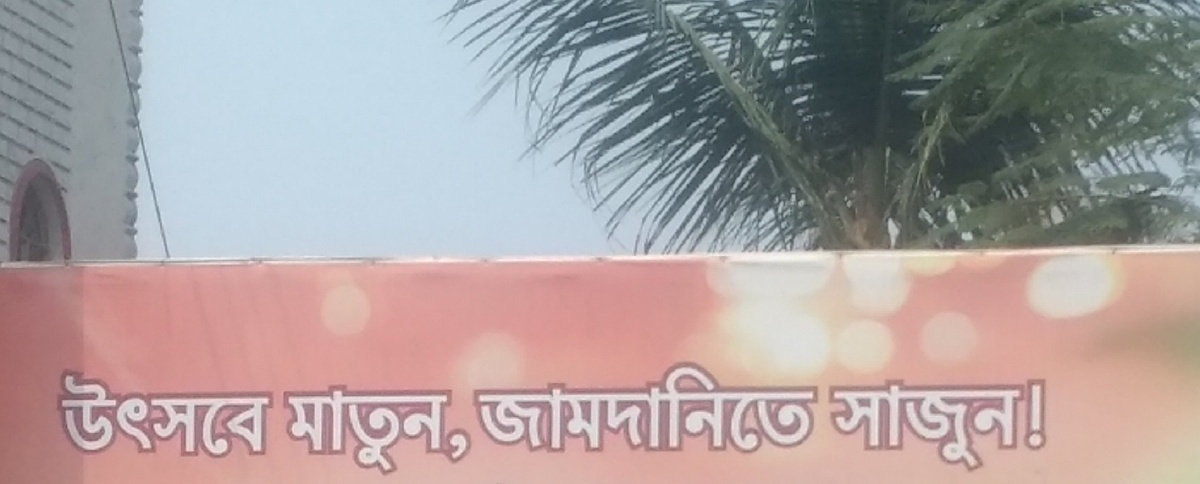text: (833, 377, 848, 481), (849, 377, 864, 481), (865, 377, 880, 481), (881, 377, 896, 481), (897, 377, 912, 481), (913, 377, 928, 481), (929, 377, 944, 481), (945, 377, 960, 481), (961, 377, 976, 481), (977, 377, 992, 481), (993, 377, 1008, 481), (1009, 377, 1024, 481), (1025, 377, 1040, 481), (1041, 377, 1056, 481), (289, 380, 304, 483), (305, 380, 320, 483), (321, 380, 336, 483), (337, 380, 352, 483), (353, 380, 368, 483), (369, 380, 384, 483), (385, 380, 400, 483), (401, 380, 416, 483), (417, 380, 432, 483), (433, 380, 448, 483), (449, 380, 464, 483), (465, 352, 480, 454), (481, 352, 496, 454), (497, 352, 512, 454), (513, 352, 528, 454), (529, 352, 544, 454), (545, 352, 560, 454), (561, 352, 576, 454), (577, 352, 592, 454), (593, 352, 608, 454), (609, 352, 624, 454), (625, 352, 640, 454), (641, 352, 656, 454), (657, 352, 672, 454), (673, 352, 688, 454), (689, 352, 704, 454), (705, 352, 720, 454), (721, 352, 736, 454), (737, 352, 752, 454), (753, 352, 768, 454), (769, 352, 784, 454), (785, 352, 800, 454), (801, 352, 816, 454), (65, 368, 80, 462), (81, 368, 96, 462), (97, 368, 112, 462), (113, 368, 128, 462), (129, 368, 144, 462), (145, 368, 160, 462), (161, 368, 176, 462), (177, 368, 192, 462), (193, 368, 208, 462), (209, 368, 224, 462), (225, 368, 240, 462), (241, 368, 256, 462), (257, 368, 272, 462), (465, 380, 475, 483), (817, 352, 827, 454), (55, 368, 64, 462), (280, 380, 288, 483), (273, 368, 280, 462), (831, 377, 832, 481)
